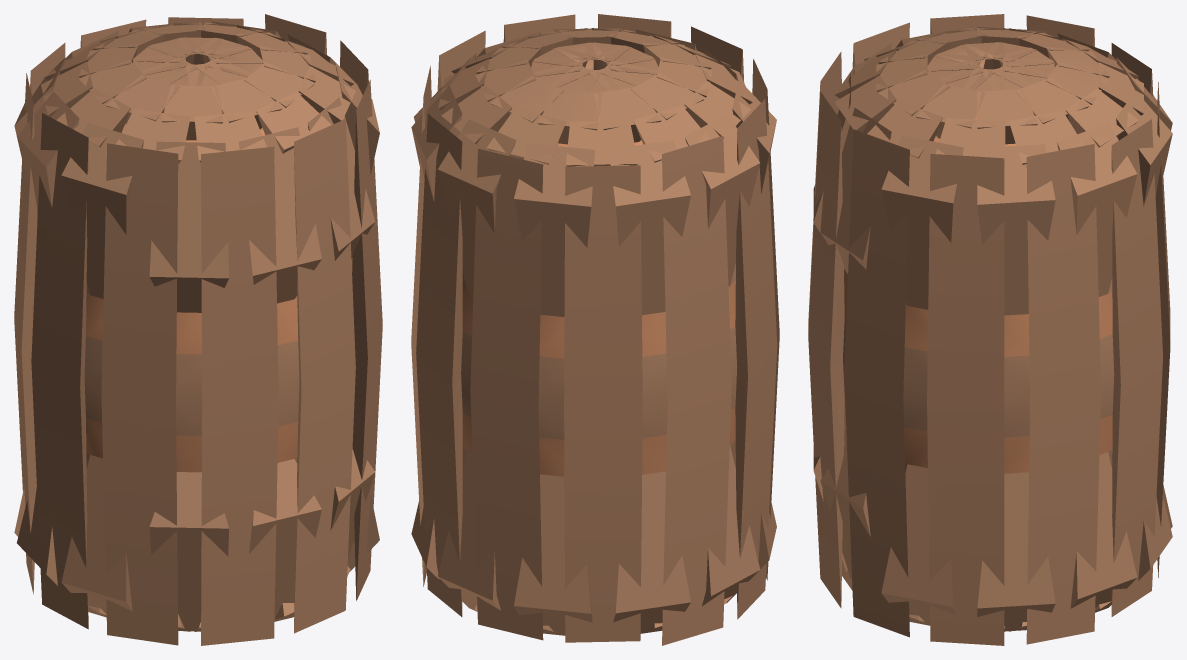
File: Rattan2.fbx
The picture shows the model from 3 angles, left to right: view 1: azimuth 30°, elevation 25°; view 2: azimuth 150°, elevation 25°; view 3: azimuth 270°, elevation 25°; orthographic projection.
Parts seen in each view (by area): view 1: RattanCushion1; view 2: RattanCushion1; view 3: RattanCushion1.
Boxes of the visible parts, x1,y1,x2,y2 form: RattanCushion1: [14, 14, 382, 645]; RattanCushion1: [411, 14, 779, 645]; RattanCushion1: [808, 14, 1172, 645].
Bounding box in the file's own units: 27.59 × 44.27 × 27.48.
Materials: 1 (1 with a texture image).
